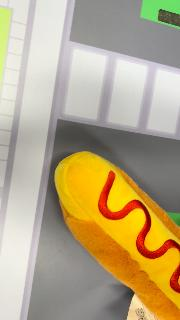hotdog: (55, 150, 180, 320)
